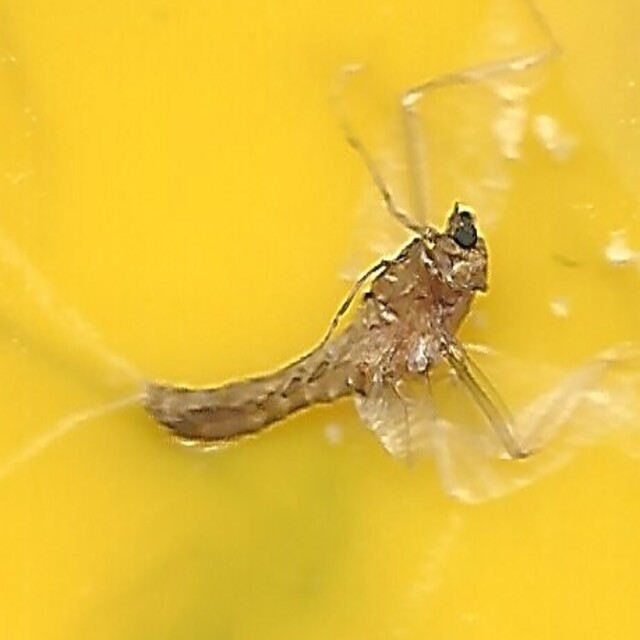Ephemeroptera: (139, 189, 501, 451)
